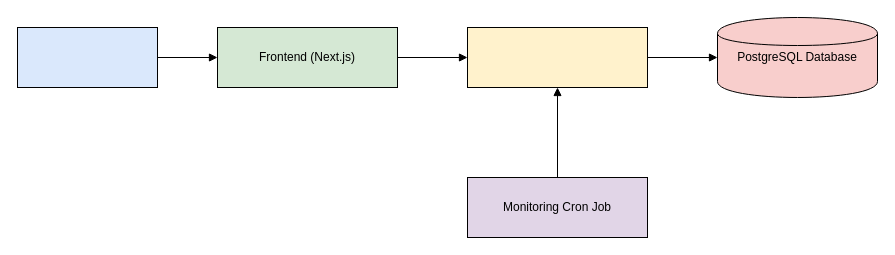
The diagram is 895 pixels wide and 255 high, and some of its shapes have lost their labels. The box of each missing label's shape, as (x1, y1, x2, y2) in pixels:
Backend (NestJS API): (466, 26, 648, 88)
User / Browser: (16, 26, 158, 88)
